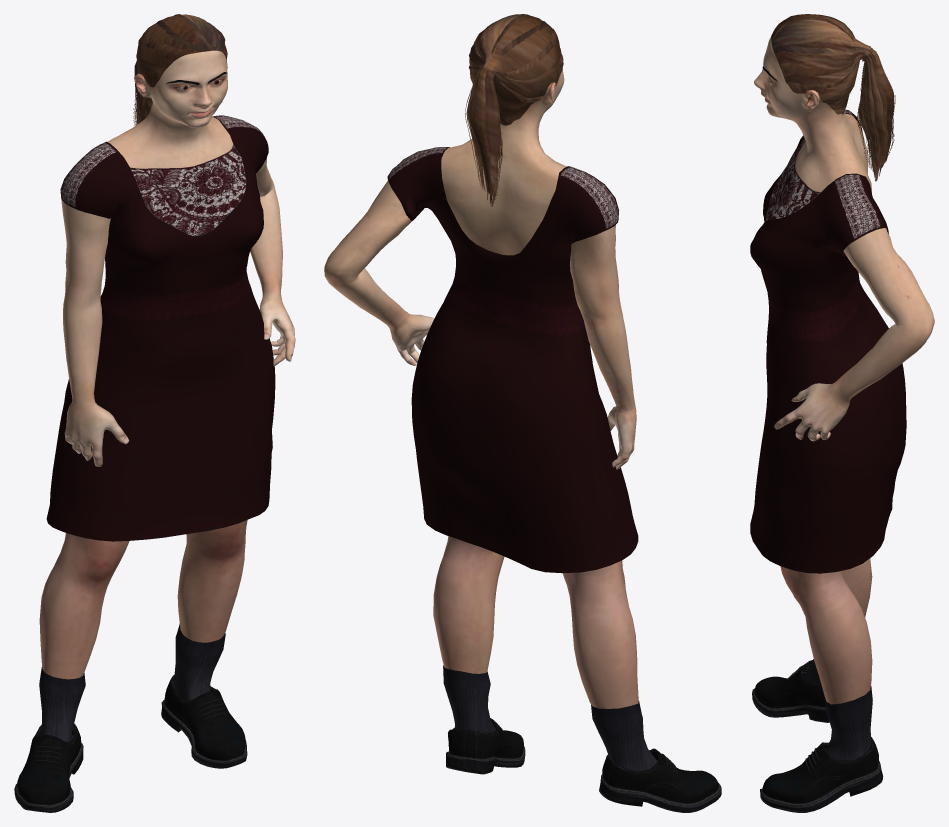
File: lady.glb
3 views of the same model, side by side, from view 1: azimuth 30°, elevation 25°; view 2: azimuth 150°, elevation 25°; view 3: azimuth 270°, elevation 25° (orthographic). The views are drawn at different scales.
Parts seen in each view (by area): view 1: f_dress_01Mesh.001, laddy_1Mesh.001, shoes03Mesh.001, ponytail01Mesh.001; view 2: f_dress_01Mesh.001, laddy_1Mesh.001, shoes03Mesh.001, ponytail01Mesh.001; view 3: f_dress_01Mesh.001, laddy_1Mesh.001, shoes03Mesh.001, ponytail01Mesh.001.
Part boxes in pixels (left/top/right/bottom): f_dress_01Mesh.001: left=46, top=115, right=275, bottom=541; laddy_1Mesh.001: left=39, top=50, right=295, bottom=679; shoes03Mesh.001: left=14, top=623, right=247, bottom=812; ponytail01Mesh.001: left=133, top=14, right=227, bottom=125; f_dress_01Mesh.001: left=387, top=147, right=638, bottom=573; laddy_1Mesh.001: left=324, top=57, right=638, bottom=708; shoes03Mesh.001: left=443, top=665, right=721, bottom=812; ponytail01Mesh.001: left=465, top=14, right=563, bottom=206; f_dress_01Mesh.001: left=750, top=109, right=906, bottom=573; laddy_1Mesh.001: left=754, top=36, right=934, bottom=704; shoes03Mesh.001: left=752, top=659, right=883, bottom=812; ponytail01Mesh.001: left=771, top=14, right=895, bottom=181.
Bounding box in the file's own units: 1.84 × 4.12 × 0.8935.
Materials: 6 (5 with a texture image).
